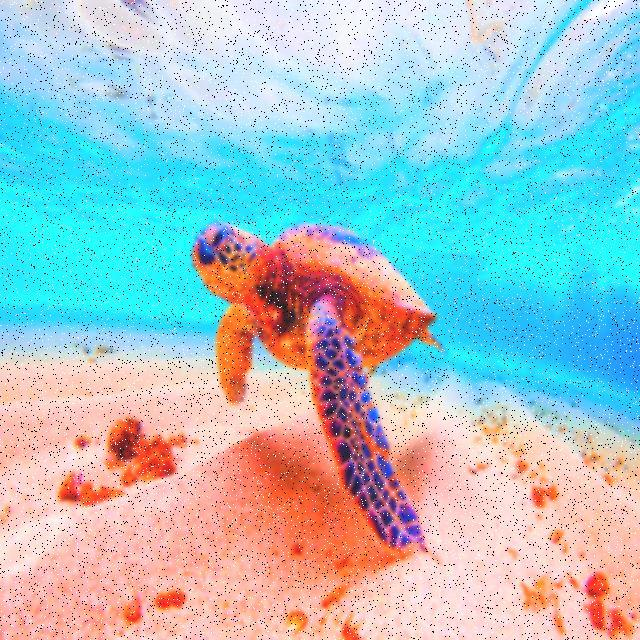tortoise: (187, 208, 456, 566)
